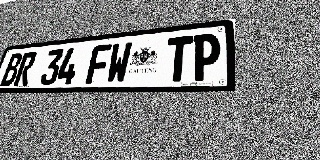3: (39, 49, 64, 85)
4: (55, 47, 81, 85)
B: (0, 53, 24, 86)
F: (85, 44, 112, 84)
P: (191, 33, 220, 81)
R: (13, 51, 38, 86)
T: (164, 35, 193, 82)
W: (105, 42, 132, 83)
